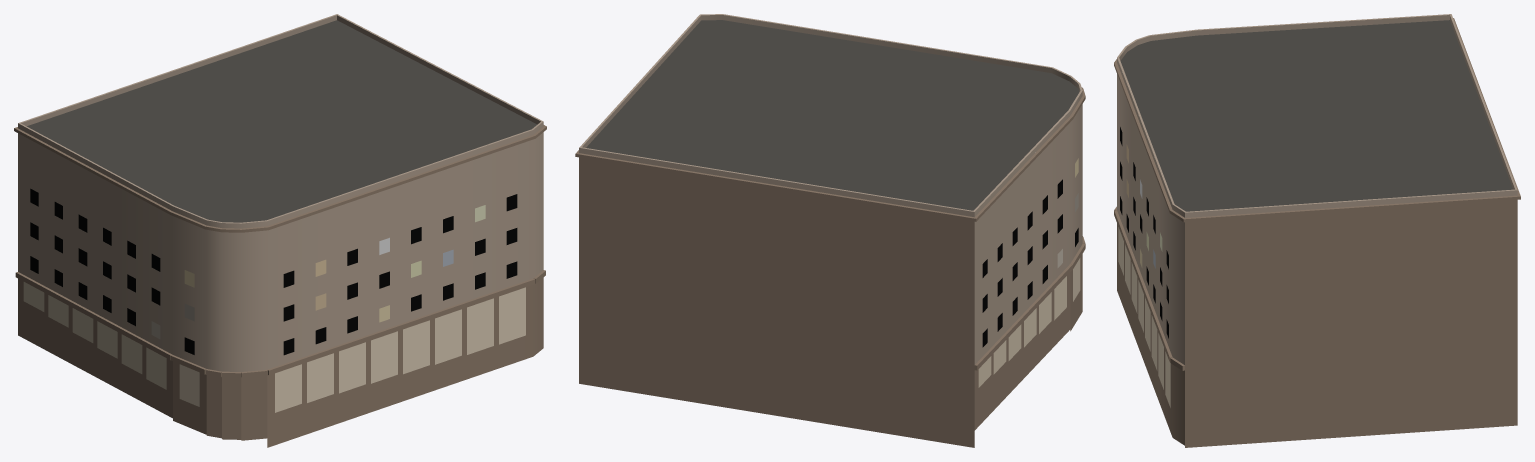
The model's file is saks_lod1.glb.
The picture shows the model from 3 angles, left to right: view 1: azimuth 30°, elevation 25°; view 2: azimuth 150°, elevation 25°; view 3: azimuth 270°, elevation 25°; orthographic projection. The views are drawn at different scales.
Parts seen in each view (by area): view 1: L1_granite, L1_roof, L1_shop, L1_win; view 2: L1_granite, L1_roof, L1_shop, L1_win; view 3: L1_granite, L1_roof, L1_shop, L1_win.
Part boxes in pixels (x1,y1,x2,y2): L1_granite: (14, 14, 546, 447); L1_roof: (27, 20, 537, 222); L1_shop: (23, 282, 525, 412); L1_win: (30, 188, 517, 355); L1_granite: (575, 14, 1085, 447); L1_roof: (586, 20, 1079, 210); L1_shop: (978, 258, 1080, 387); L1_win: (982, 158, 1078, 347); L1_granite: (1114, 14, 1520, 447); L1_roof: (1120, 20, 1513, 211); L1_shop: (1118, 227, 1170, 407); L1_win: (1120, 127, 1168, 338).
Bounding box in the file's own units: 57.34 × 31.23 × 48.95.
